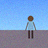person: (25, 16, 36, 38)
